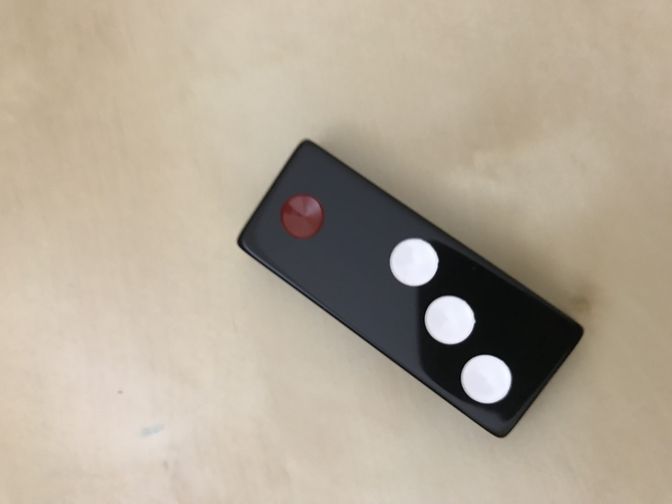goose: (238, 138, 586, 440)
